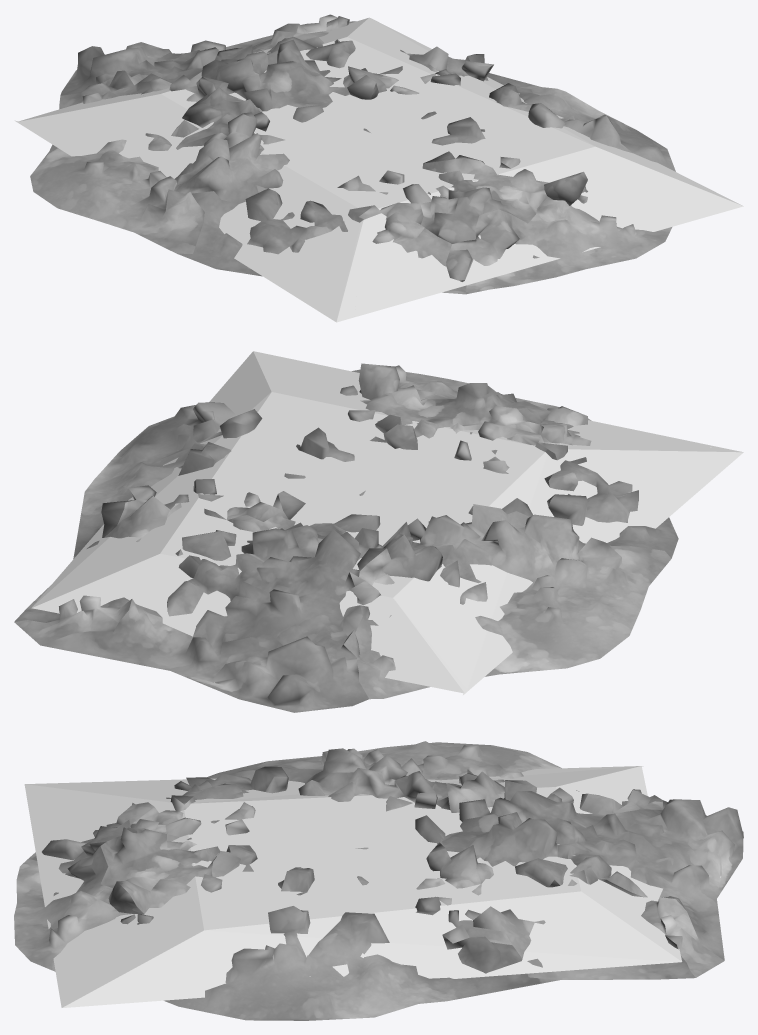
The model's file is SM_Debris_02a.fbx.
3 renders of one model, top to bottom at view 1: azimuth 30°, elevation 25°; view 2: azimuth 150°, elevation 25°; view 3: azimuth 270°, elevation 25°, orthographic. The views are drawn at different scales.
Visible parts, largest first — view 1: SM_Debris_02a_LOD0, SM_Debris_02a_ConvexHulls; view 2: SM_Debris_02a_LOD0, SM_Debris_02a_ConvexHulls; view 3: SM_Debris_02a_LOD0, SM_Debris_02a_ConvexHulls.
Boxes of the visible parts, x1,y1,x2,y2 form: SM_Debris_02a_LOD0: [30, 14, 675, 294]; SM_Debris_02a_ConvexHulls: [14, 17, 743, 322]; SM_Debris_02a_LOD0: [14, 363, 678, 712]; SM_Debris_02a_ConvexHulls: [31, 351, 743, 694]; SM_Debris_02a_LOD0: [14, 741, 743, 1020]; SM_Debris_02a_ConvexHulls: [24, 766, 682, 1007].
Bounding box in the file's own units: 280 × 315 × 38.73.
